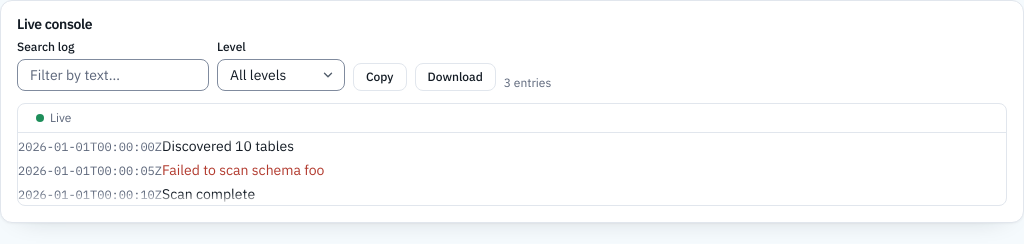
Test: ConsoleShell log controls › filters log entries by level
Select "Error" in the dropdown labelled "Level" at [281, 75], box [217,59,345,91]
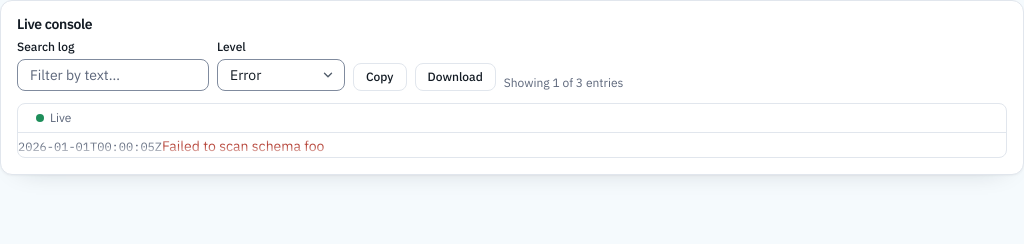
Expected: the text "Failed to scan schema foo" is shown, [162,137,324,155]
Result: the text "Showing 1 of 3 entries" is shown at [504,75,623,91]
